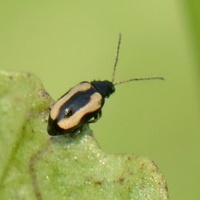insect: (47, 33, 163, 134)
